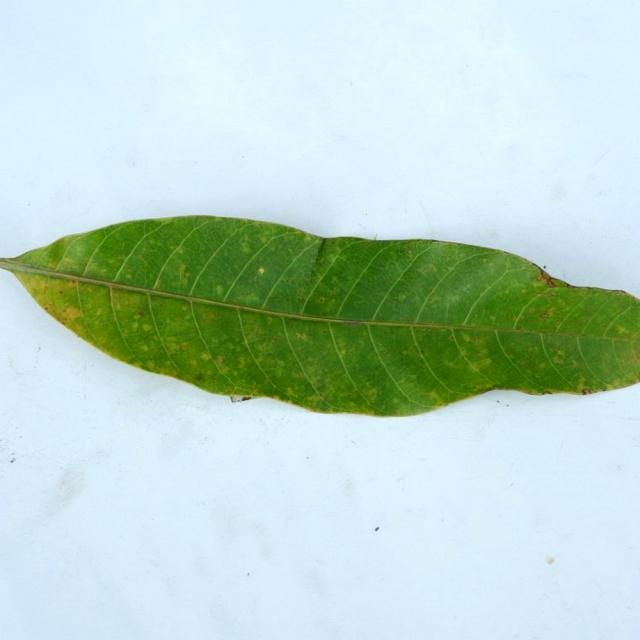Mango: (0, 216, 639, 416)
Powdery_Mildew: (457, 328, 475, 346), (62, 305, 82, 321), (176, 264, 189, 285), (253, 263, 272, 277), (245, 325, 262, 338), (199, 349, 215, 361), (109, 287, 119, 304), (326, 286, 340, 297), (46, 258, 59, 269), (417, 267, 431, 277), (365, 389, 377, 400), (214, 284, 224, 297), (479, 359, 492, 369), (130, 318, 140, 330), (429, 391, 441, 401), (215, 355, 224, 367), (41, 282, 50, 294), (554, 353, 564, 363), (240, 243, 250, 253), (167, 345, 177, 355), (260, 233, 270, 243), (424, 264, 435, 273), (544, 291, 557, 298), (407, 374, 417, 383), (617, 326, 628, 334), (295, 332, 306, 340), (286, 387, 295, 396), (239, 357, 248, 366), (206, 311, 216, 319), (581, 388, 592, 395), (397, 293, 406, 301), (175, 246, 184, 254), (242, 235, 250, 244), (539, 312, 551, 318), (107, 257, 117, 264), (557, 350, 565, 358), (142, 324, 151, 331), (68, 279, 77, 286), (635, 347, 640, 359), (140, 345, 148, 352), (95, 309, 103, 316), (571, 360, 578, 368), (43, 305, 51, 312), (115, 254, 124, 260), (341, 349, 348, 356), (181, 342, 188, 349), (539, 362, 546, 369), (406, 249, 413, 256), (317, 297, 325, 303), (297, 296, 304, 302), (490, 315, 496, 321), (449, 333, 455, 339), (138, 311, 144, 317), (512, 315, 518, 321), (318, 392, 323, 398), (58, 290, 63, 295)
